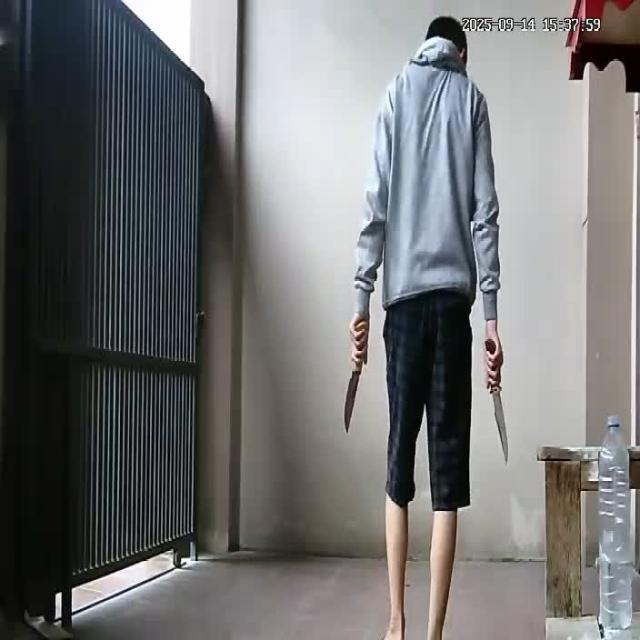senjata_tajam: (342, 361, 364, 437), (491, 386, 511, 466)
